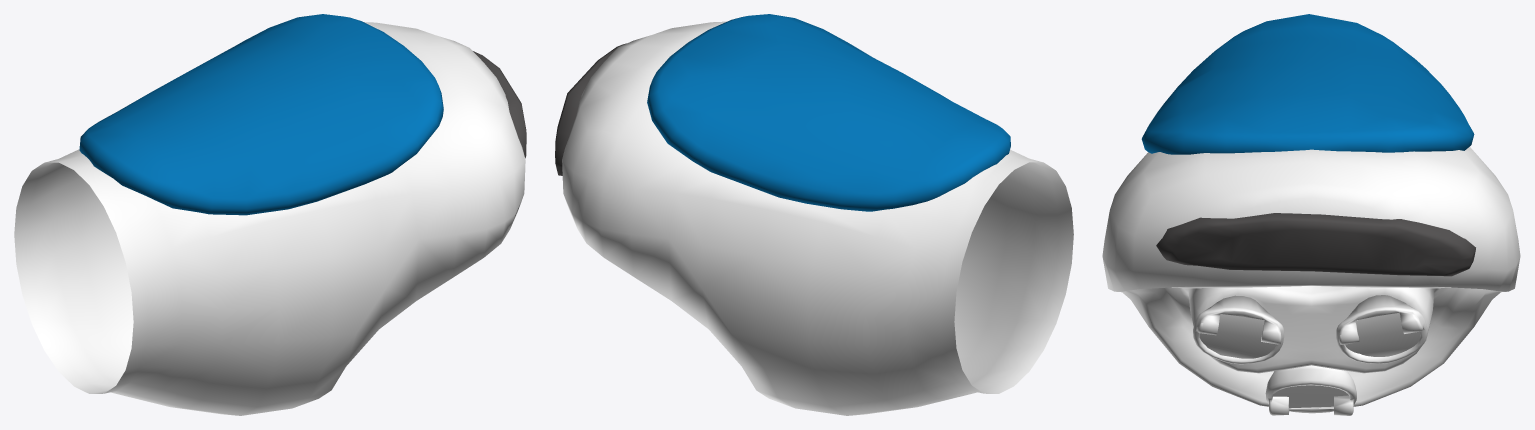
Rendered from WristYaw.dae.
3 renders of one model, left to right at view 1: azimuth 30°, elevation 25°; view 2: azimuth 150°, elevation 25°; view 3: azimuth 270°, elevation 25°, orthographic. The views are drawn at different scales.
Parts seen in each view (by area): view 1: RWristYaw; view 2: RWristYaw; view 3: RWristYaw.
Part boxes in pixels (bbox=[...]): RWristYaw: bbox=[14, 14, 526, 415]; RWristYaw: bbox=[555, 14, 1073, 415]; RWristYaw: bbox=[1102, 14, 1520, 415].
Size of the model in its own units: 0.8481 by 0.6829 by 0.63.
1 material, 1 textured.
